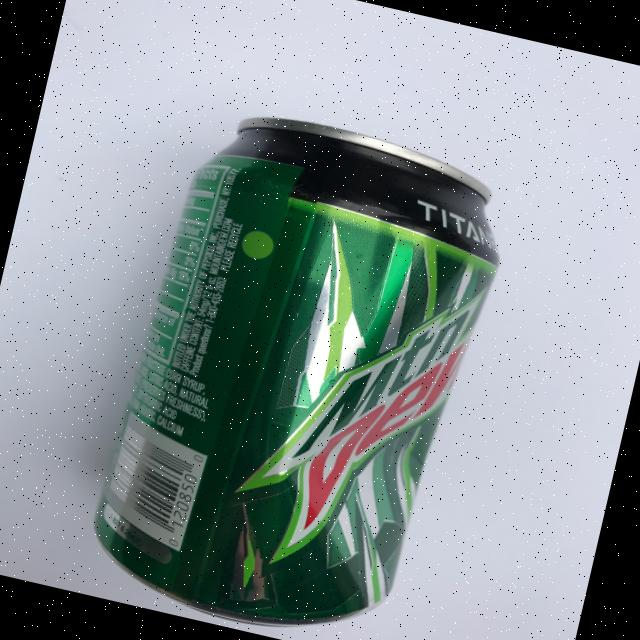metal: (77, 93, 521, 640)
